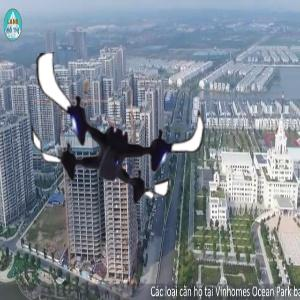drone: (29, 48, 210, 229)
